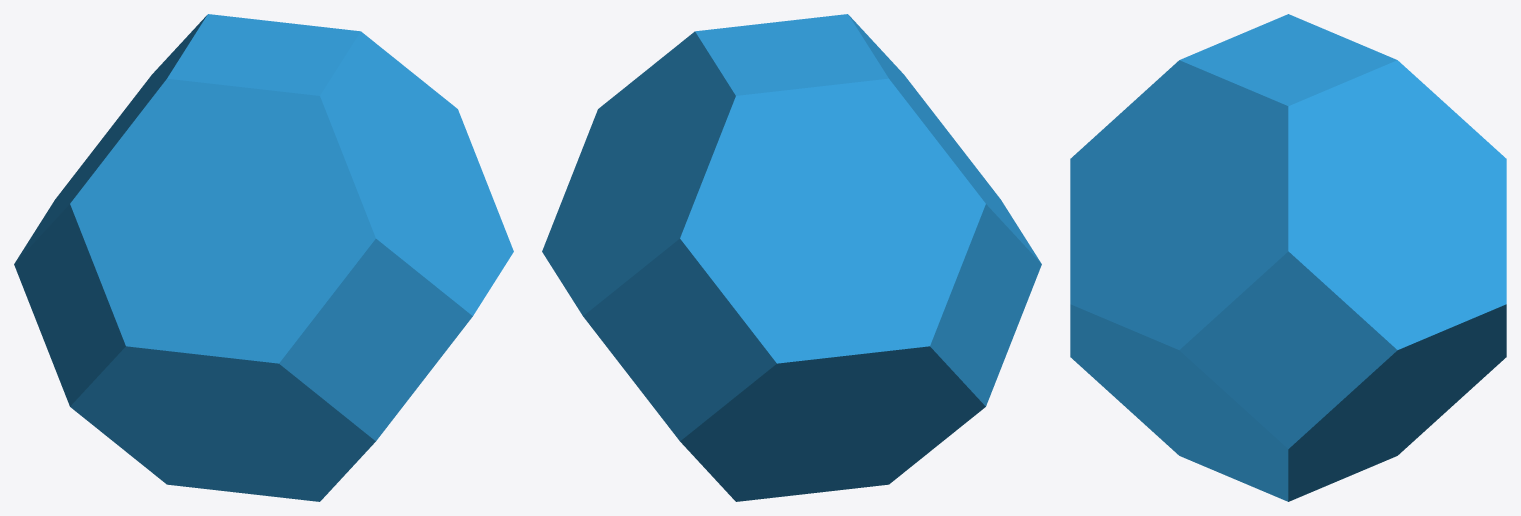
The model's file is truncatedoctahedron.gltf.
3 views of the same model, side by side, from view 1: azimuth 30°, elevation 25°; view 2: azimuth 150°, elevation 25°; view 3: azimuth 270°, elevation 25° (orthographic). The views are drawn at different scales.
Parts seen in each view (by area): view 1: Solid.002; view 2: Solid.002; view 3: Solid.002.
Boxes of the visible parts, x1,y1,x2,y2 form: Solid.002: (14, 14, 513, 501); Solid.002: (542, 14, 1041, 501); Solid.002: (1070, 14, 1506, 501).
Size of the model in its own units: 1.33 by 1.33 by 1.33.
